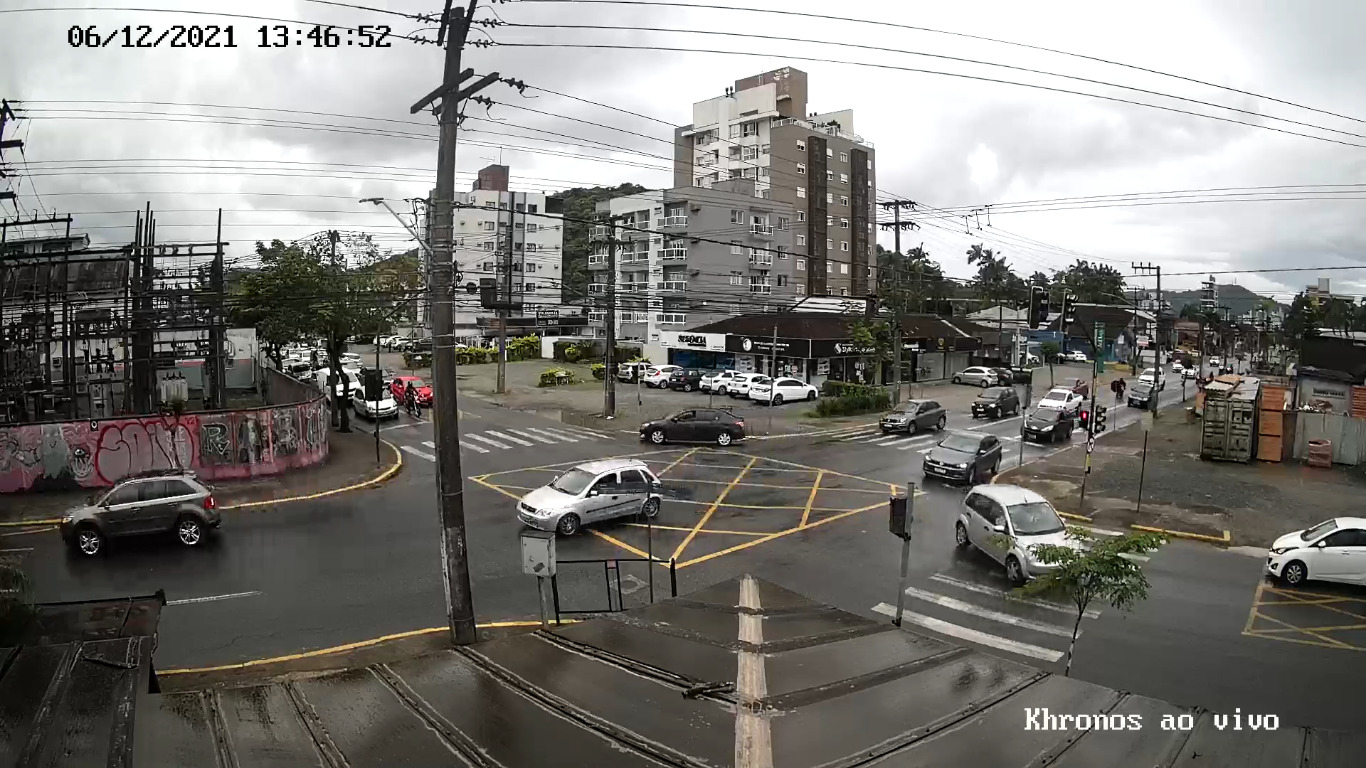car: (59, 469, 222, 557), (955, 484, 1085, 589), (515, 457, 664, 538), (1267, 517, 1366, 588), (921, 429, 1003, 485), (639, 406, 746, 446)
